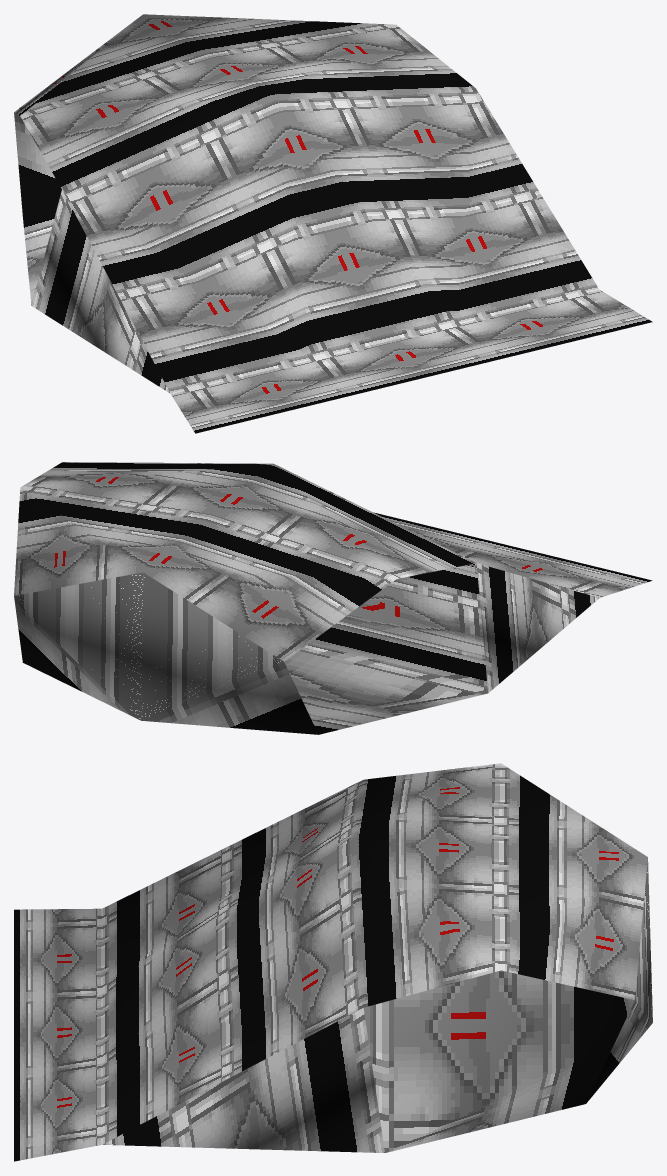
The model's file is 1586top000_c.gltf.
3 views of the same model, one above another, from view 1: azimuth 30°, elevation 25°; view 2: azimuth 150°, elevation 25°; view 3: azimuth 270°, elevation 25° (orthographic). The views are drawn at different scales.
Parts seen in each view (by area): view 1: 1586top000_c; view 2: 1586top000_c; view 3: 1586top000_c.
Part boxes in pixels (x1,y1,x2,y2): 1586top000_c: (14,14,652,433); 1586top000_c: (14,462,652,734); 1586top000_c: (14,763,652,1161).
Bounding box in the file's own units: 0.7598 × 0.2717 × 0.814.
Materials: 1 (1 with a texture image).
